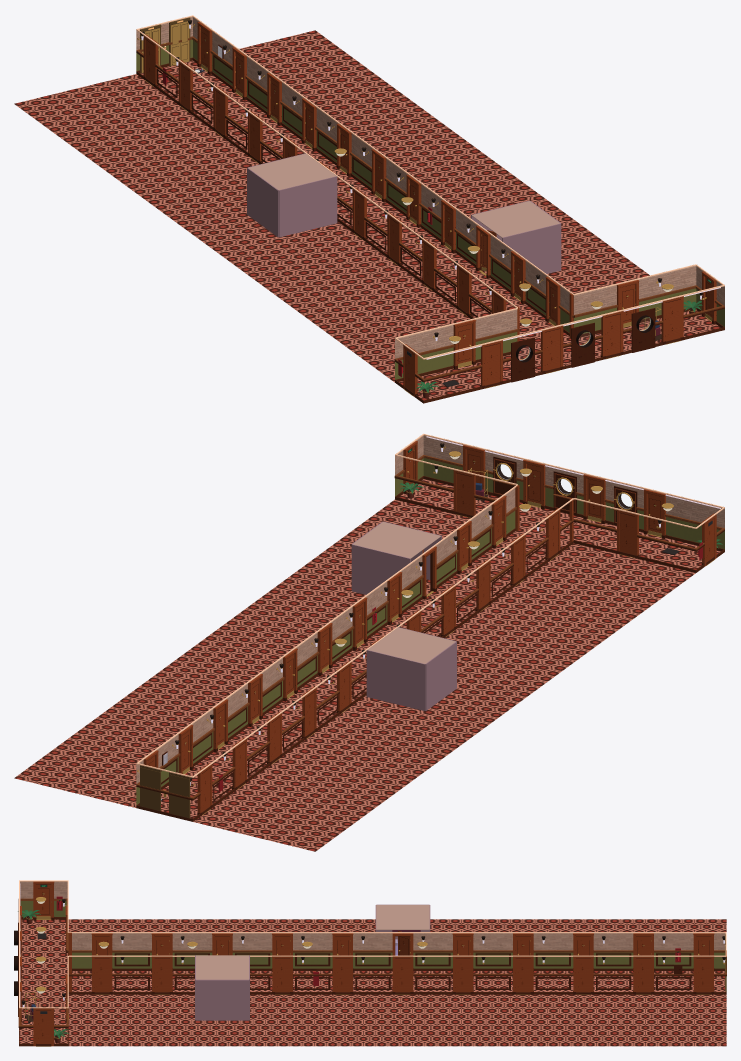
File: goodboat-corridor-1.lod1.glb
3 views of the same model, one above another, from view 1: azimuth 30°, elevation 25°; view 2: azimuth 150°, elevation 25°; view 3: azimuth 270°, elevation 25° (orthographic). The views are drawn at different scales.
Visible parts, largest first — view 1: object 1, object 9, object 3, object 25, object 2, object 5, object 24, object 7, object 6, object 4, object 50, object 10 (+2 smaller); view 2: object 1, object 9, object 3, object 25, object 2, object 5, object 24, object 6, object 7, object 4, object 10, elevators (+2 smaller); view 3: object 1, object 9, object 3, object 2, object 5, object 6, object 7, object 4, object 24, object 25, object 10, object 66 (+1 smaller).
Part boxes in pixels (x1,y1,x2,y2): object 1: (14, 30, 720, 400); object 9: (143, 22, 716, 396); object 3: (136, 17, 724, 358); object 25: (247, 153, 561, 273); object 2: (136, 39, 724, 379); object 5: (136, 26, 724, 395); object 24: (248, 154, 559, 237); object 7: (136, 15, 724, 359); object 6: (136, 57, 724, 403); object 4: (136, 36, 724, 380); object 50: (511, 308, 655, 382); object 10: (143, 22, 715, 355); object 1: (14, 479, 720, 851); object 9: (143, 441, 716, 813); object 3: (136, 435, 724, 783); object 25: (351, 521, 456, 710); object 2: (136, 458, 724, 804); object 5: (136, 445, 724, 816); object 24: (353, 522, 455, 663); object 6: (136, 476, 724, 821); object 7: (136, 433, 724, 777); object 4: (136, 455, 724, 799); object 10: (143, 441, 716, 774); elevators: (140, 765, 190, 818); object 1: (19, 919, 726, 1046); object 9: (19, 881, 713, 1046); object 3: (20, 881, 725, 950); object 2: (20, 901, 724, 968); object 5: (18, 884, 726, 1043); object 6: (19, 917, 726, 1046); object 7: (19, 880, 726, 1008); object 4: (18, 898, 726, 1026); object 24: (196, 905, 429, 979); object 25: (195, 904, 430, 1020); object 10: (20, 881, 714, 1010); object 66: (35, 897, 427, 991).
Size of the model in its own units: 17.49 by 2.53 by 40.29.
102 materials, 42 textured.
